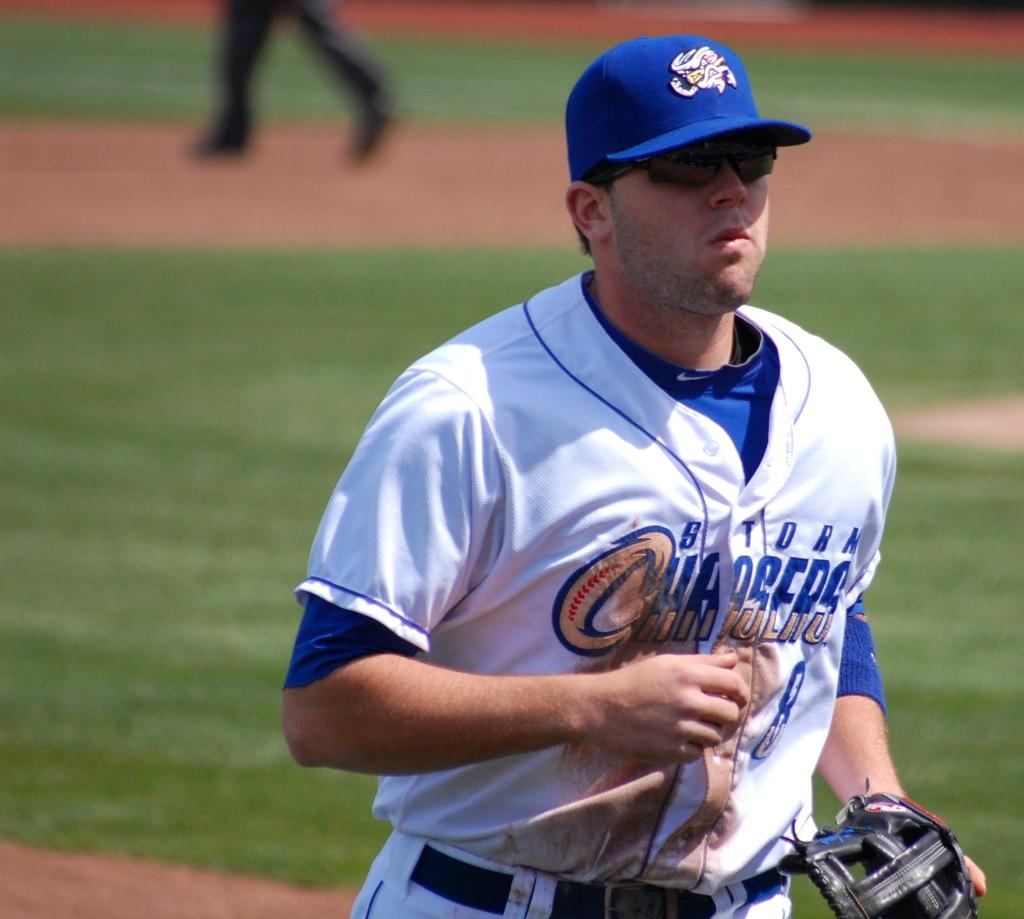Hat: (562, 29, 812, 180)
